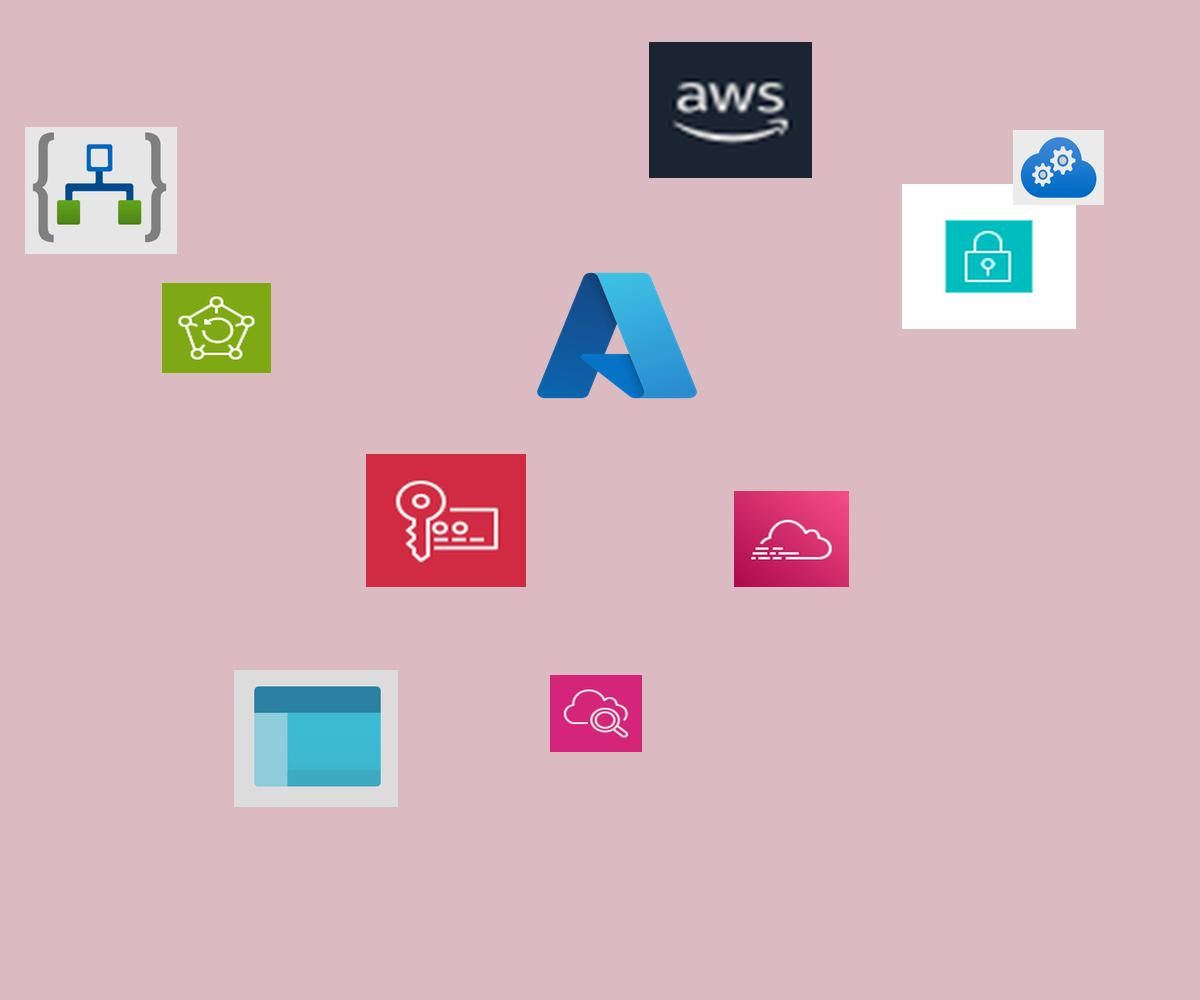AWS-Backup: (162, 283, 271, 373)
AWS-Cloud-logo: (649, 42, 812, 178)
AWS-CloudTrail: (734, 491, 849, 587)
AWS-CloudWatch: (550, 675, 642, 752)
AWS-Key-Management-Service: (366, 454, 526, 587)
AWS-Private-subnet: (902, 184, 1076, 329)
Azure_cloud_services: (1013, 130, 1104, 205)
Azure_integration-204-Logic-Apps: (25, 127, 177, 254)
Azure_management-portal: (234, 670, 398, 807)
Azure_services: (530, 263, 704, 408)
